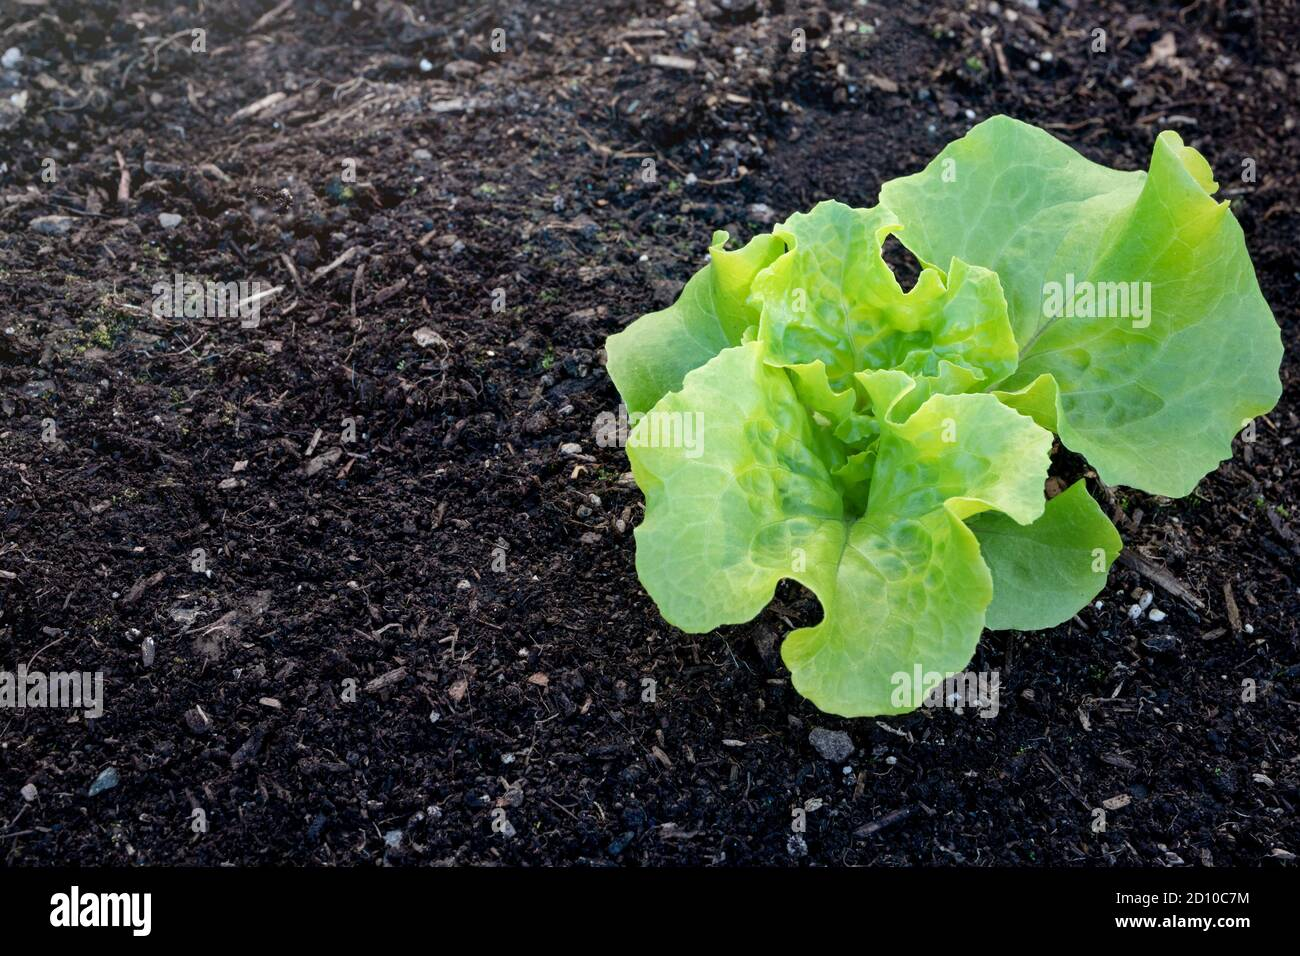lettuce: (512, 75, 1274, 774)
